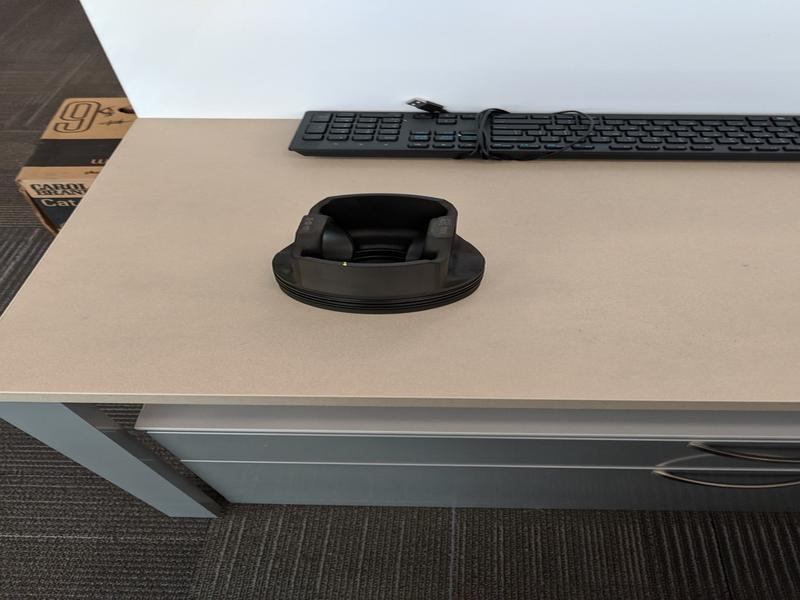piston: (269, 189, 489, 321)
